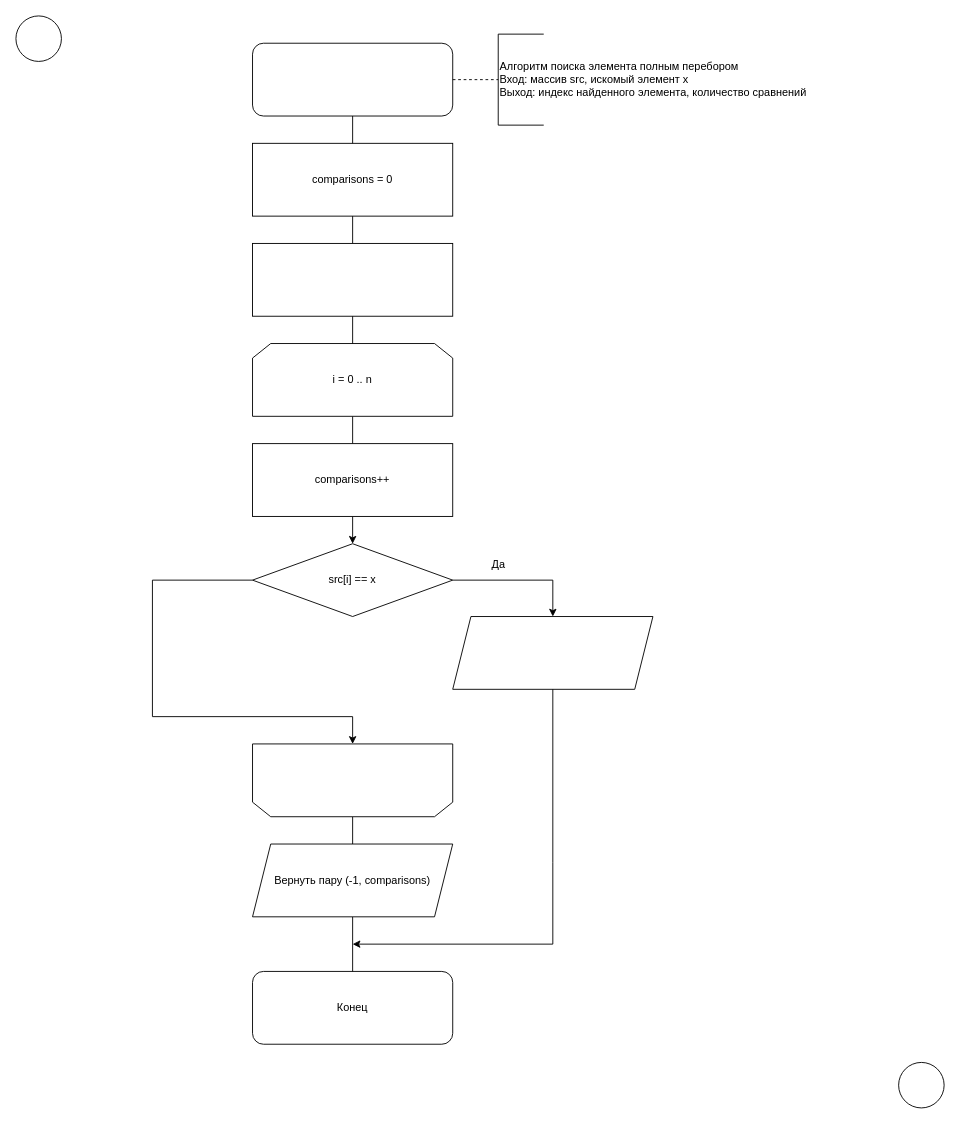
Image size: 960x1124. Some labels were removed from this diagram. The shapes that lost their labels are listed below. From the top down, each one's box as (x1, y1, x2, y2) in pixels, then its label:
(252, 42, 453, 116): Начало
(252, 243, 453, 316): n = длина массива src
(452, 616, 653, 689): Вернуть пару (i, comparisons)
(252, 743, 453, 817): i++
